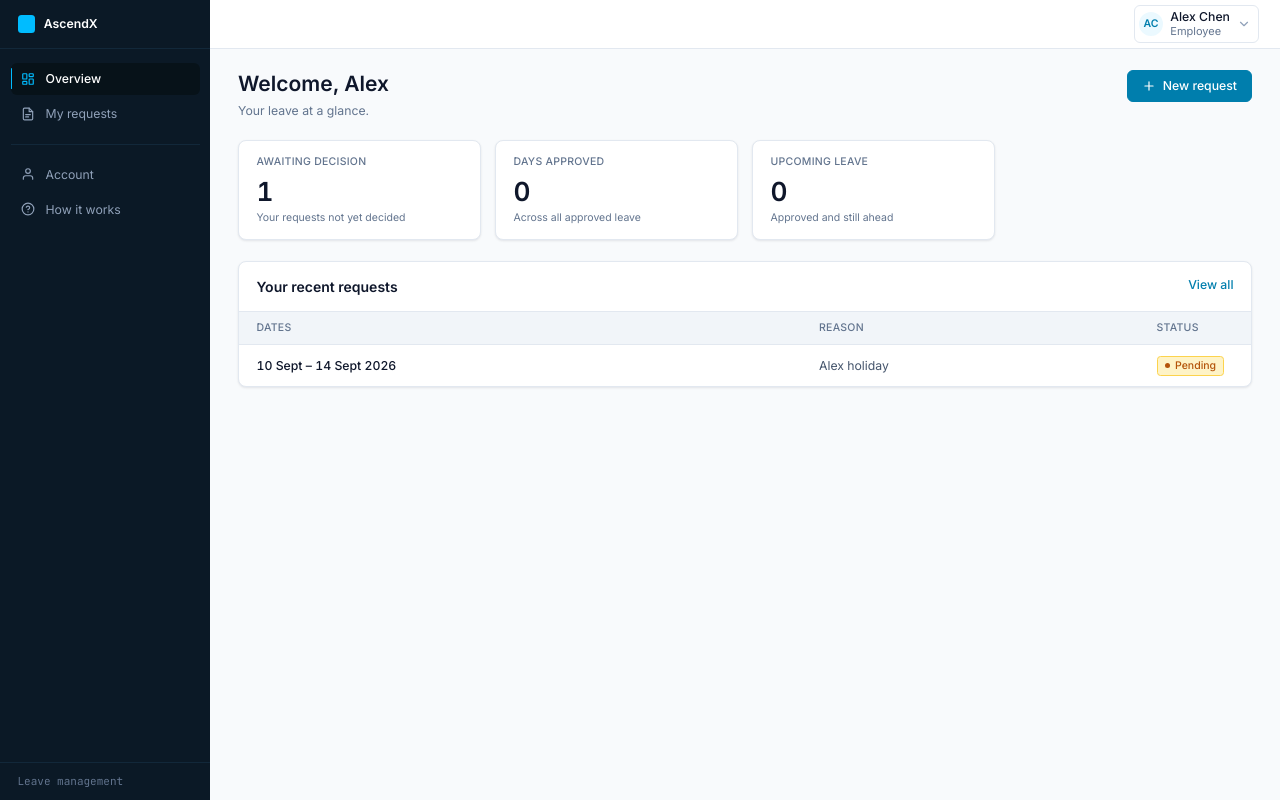
switching employee in the full app › updates the overview greeting and stats when the employee changes
Expected: the heading "Welcome, Alex" is shown, [238,70,389,98]
Click the button "AC Alex Chen Employee".
click(1197, 24)  # box [1134,5,1259,43]
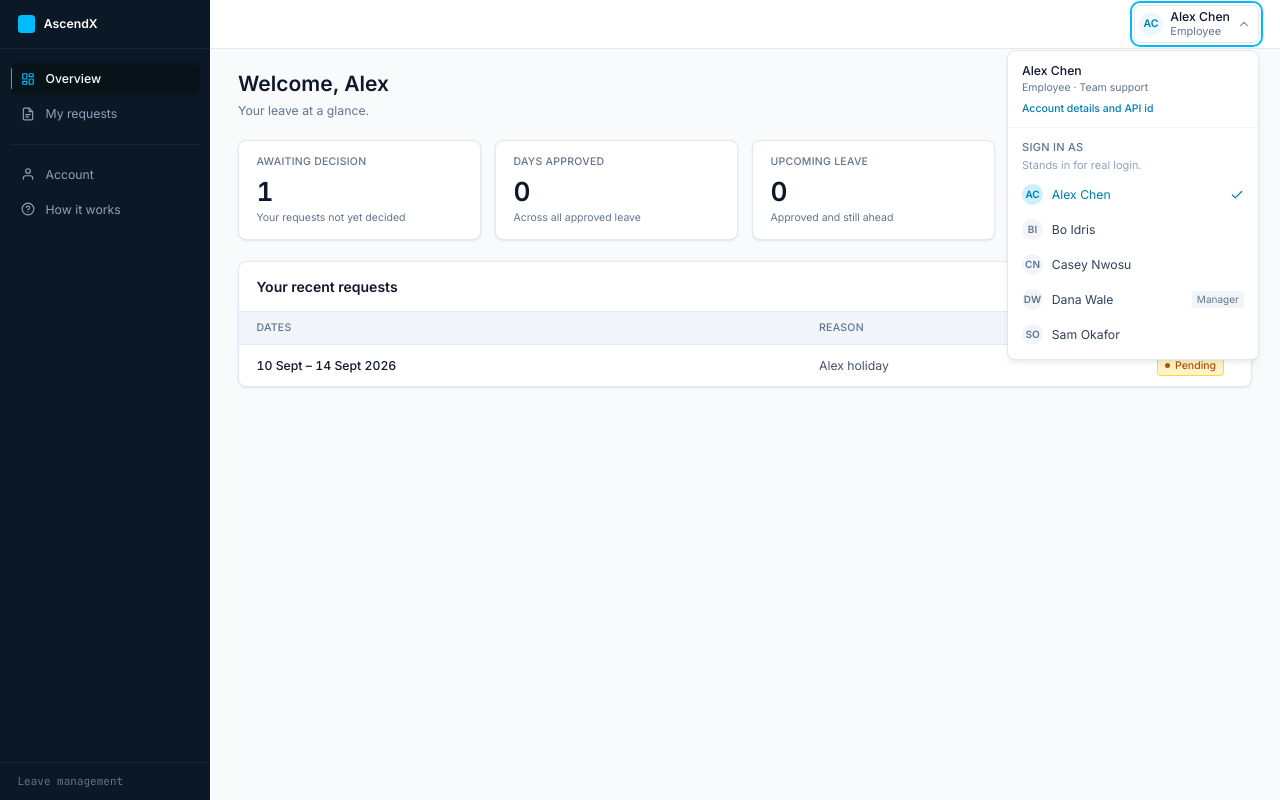
Click the menu item "DW Dana Wale Manager".
click(1133, 300)  # box [1008,282,1258,317]
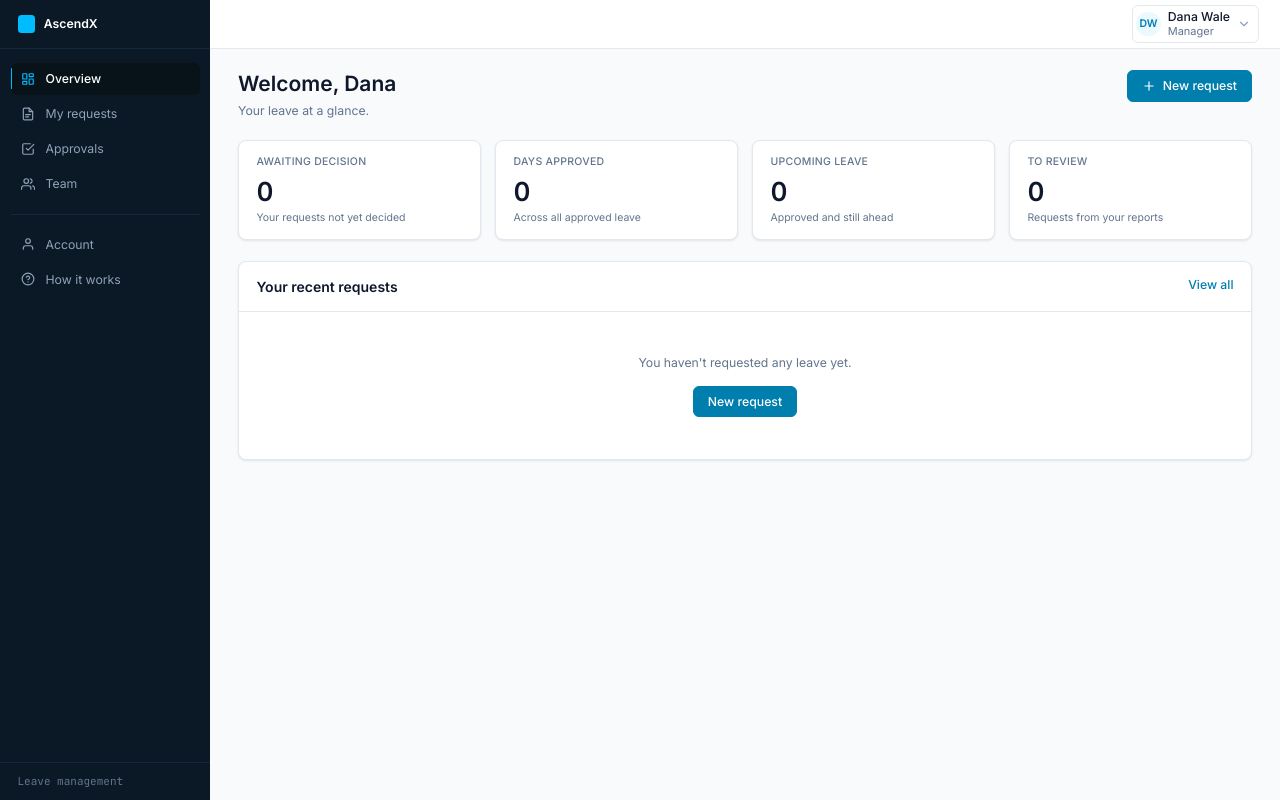
Now the heading "Welcome, Dana" is shown, box [238,70,396,98]
Now the link "Approvals" is shown, box [21,141,104,156]
